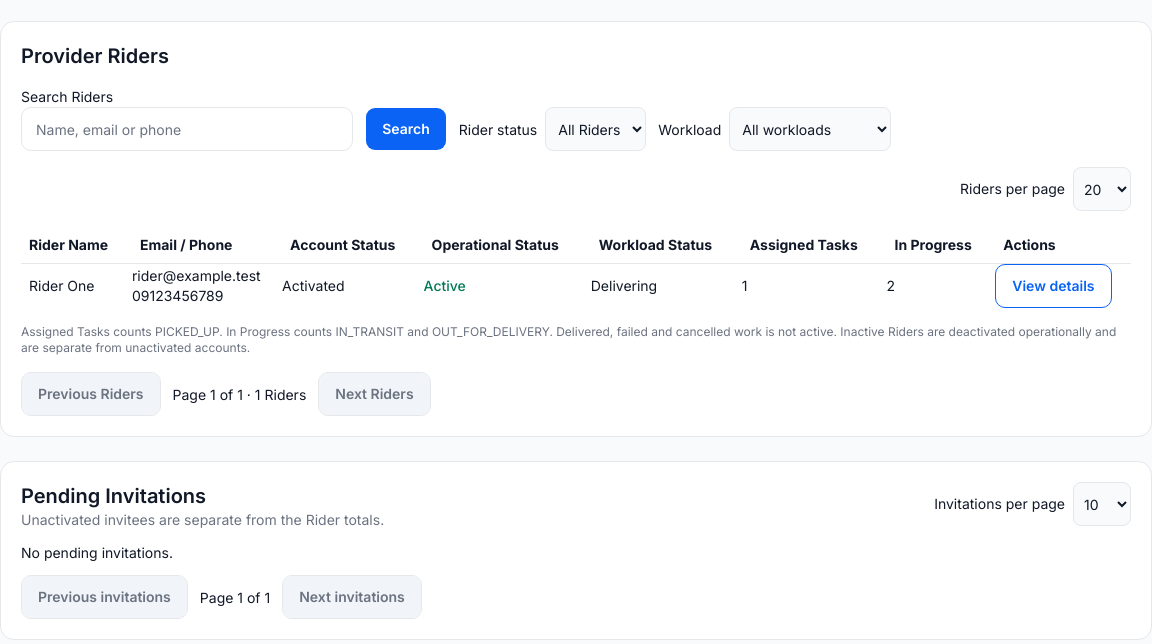
Test: opens provider-scoped Rider detail with delivered summary and assignments empty state
(page scrolled)
Click the button with aria-label "View Rider One details" at x=1053, y=286, box [995,264,1112,308]
(page scrolled)
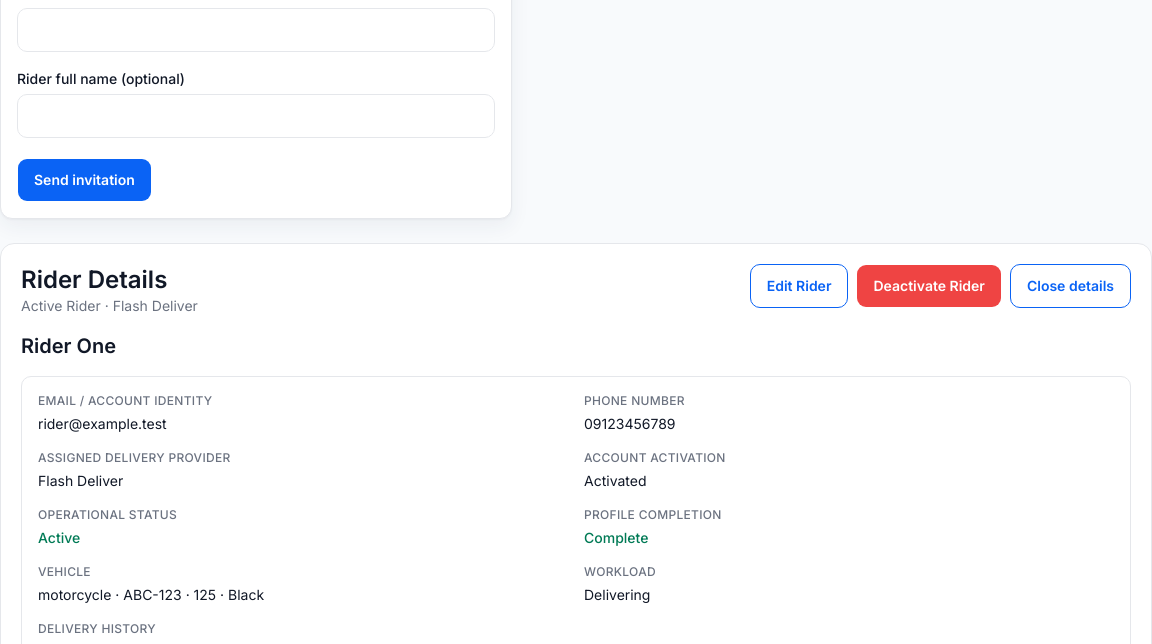
Check: the text "Flash Deliver" is shown, box [38,472,123,489]
Click the button "Close details" at x=1070, y=286, box [1010,264,1131,308]
(page scrolled)
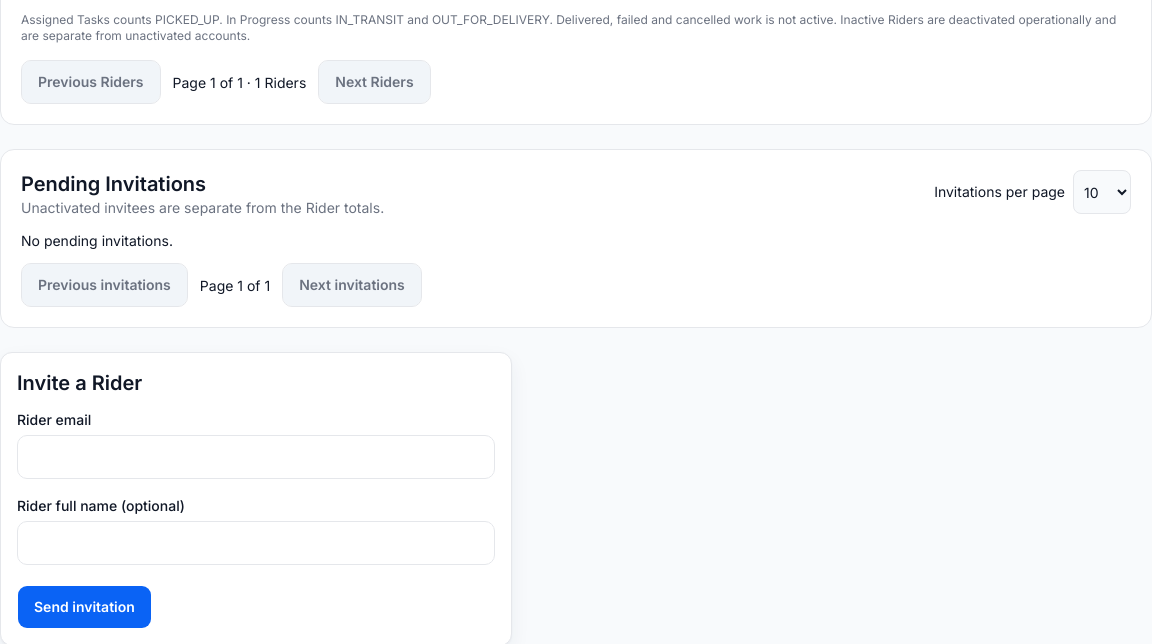
Check: the heading "Rider Details" is gone
